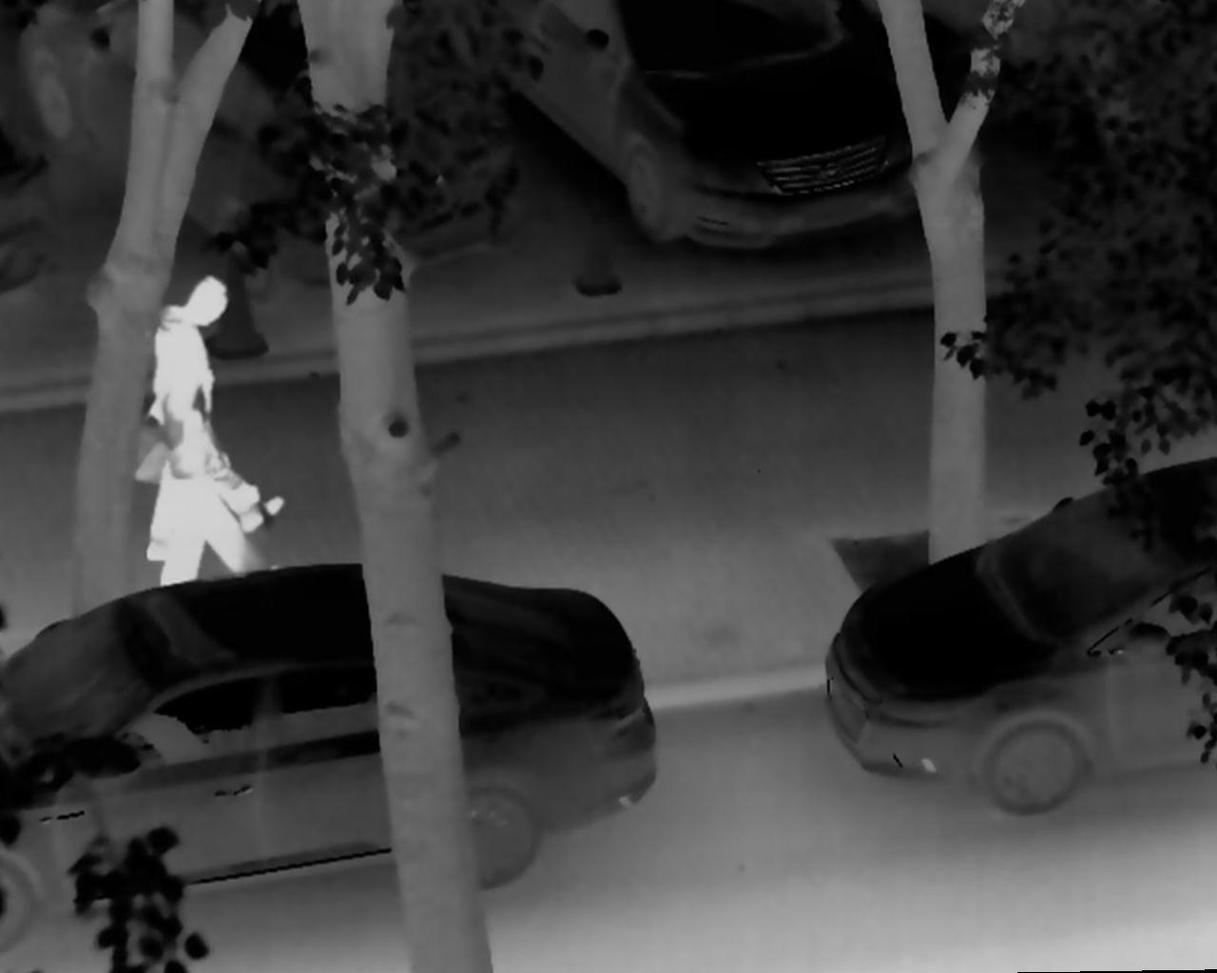person: (145, 271, 286, 561), (140, 366, 281, 596)
